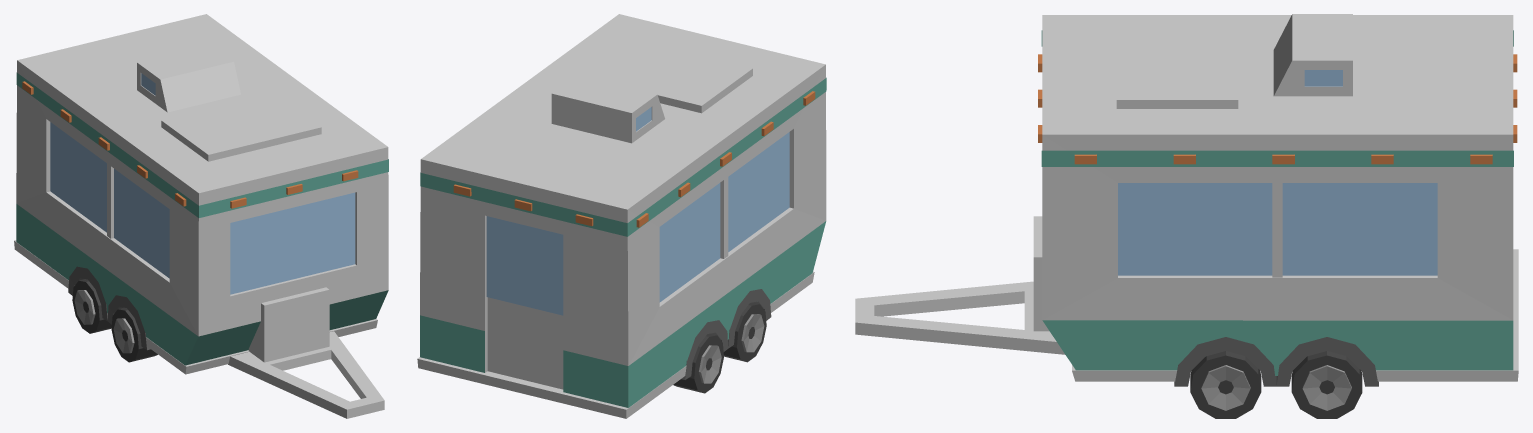
Rendered from transport_old_003.glb.
3 views of the same model, side by side, from view 1: azimuth 30°, elevation 25°; view 2: azimuth 150°, elevation 25°; view 3: azimuth 270°, elevation 25° (orthographic). The views are drawn at different scales.
Parts seen in each view (by area): view 1: transport_old_003; view 2: transport_old_003; view 3: transport_old_003.
Boxes of the visible parts, x1,y1,x2,y2 form: transport_old_003: (14,14,388,418); transport_old_003: (417,14,826,418); transport_old_003: (855,14,1518,418).
Size of the model in its own units: 1.57 by 1.85 by 3.49.
Materials: 1 (1 with a texture image).
